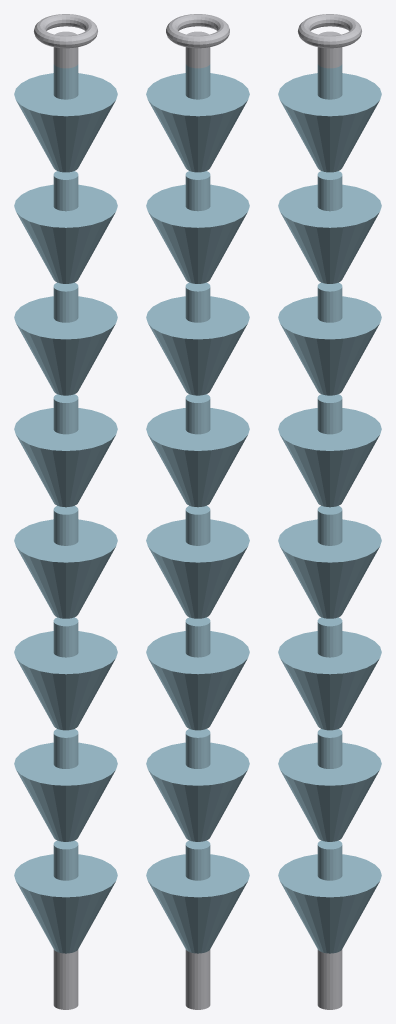
Rendered from Cadena_1041mm.fbx.
3 views of the same model, side by side, from view 1: azimuth 90°, elevation 25°; view 2: azimuth 150°, elevation 25°; view 3: azimuth 270°, elevation 25° (orthographic).
Parts seen in each view (by area): view 1: Cadena_1041mm; view 2: Cadena_1041mm; view 3: Cadena_1041mm.
Boxes of the visible parts, x1,y1,x2,y2 form: Cadena_1041mm: (14, 14, 117, 1009); Cadena_1041mm: (146, 14, 249, 1009); Cadena_1041mm: (278, 14, 381, 1009).
Bounding box in the file's own units: 10 × 104 × 10.
